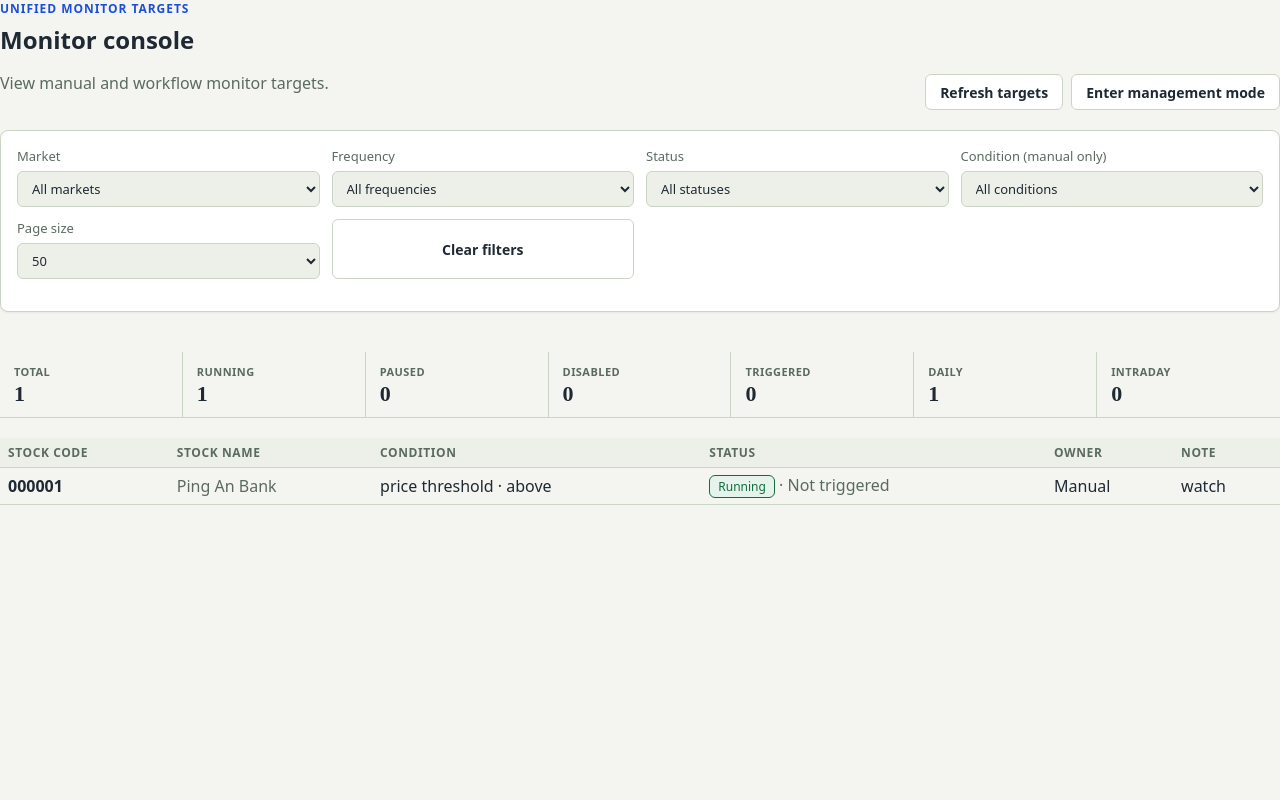
MonitorPage › keeps create operation available in management mode
This screenshot has width=1280, height=800.
Check: the text "000001" is shown, box top-left (8, 475), bottom-right (63, 497)
Click the button "Enter management mode".
click(1176, 92)  # box top-left (1071, 74), bottom-right (1279, 110)
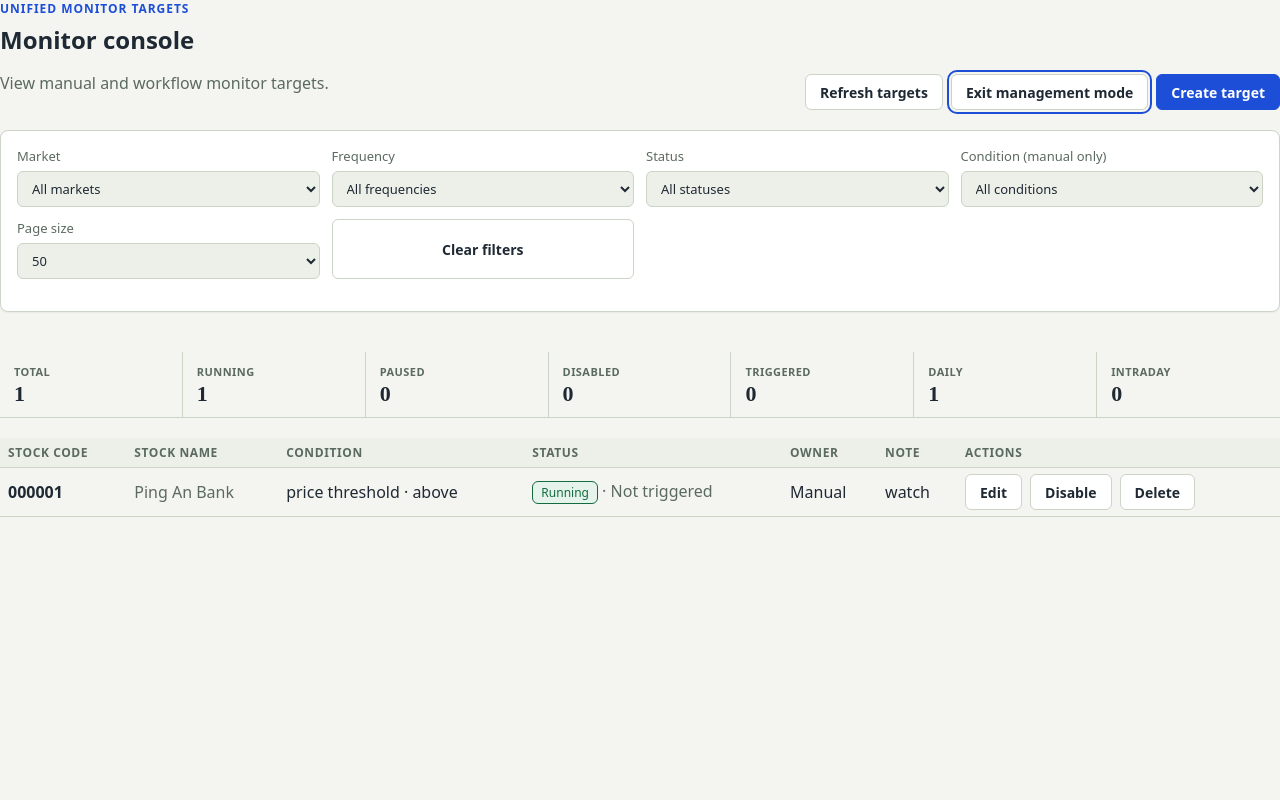
Click the button "Create target".
click(1218, 92)  # box top-left (1156, 74), bottom-right (1279, 110)
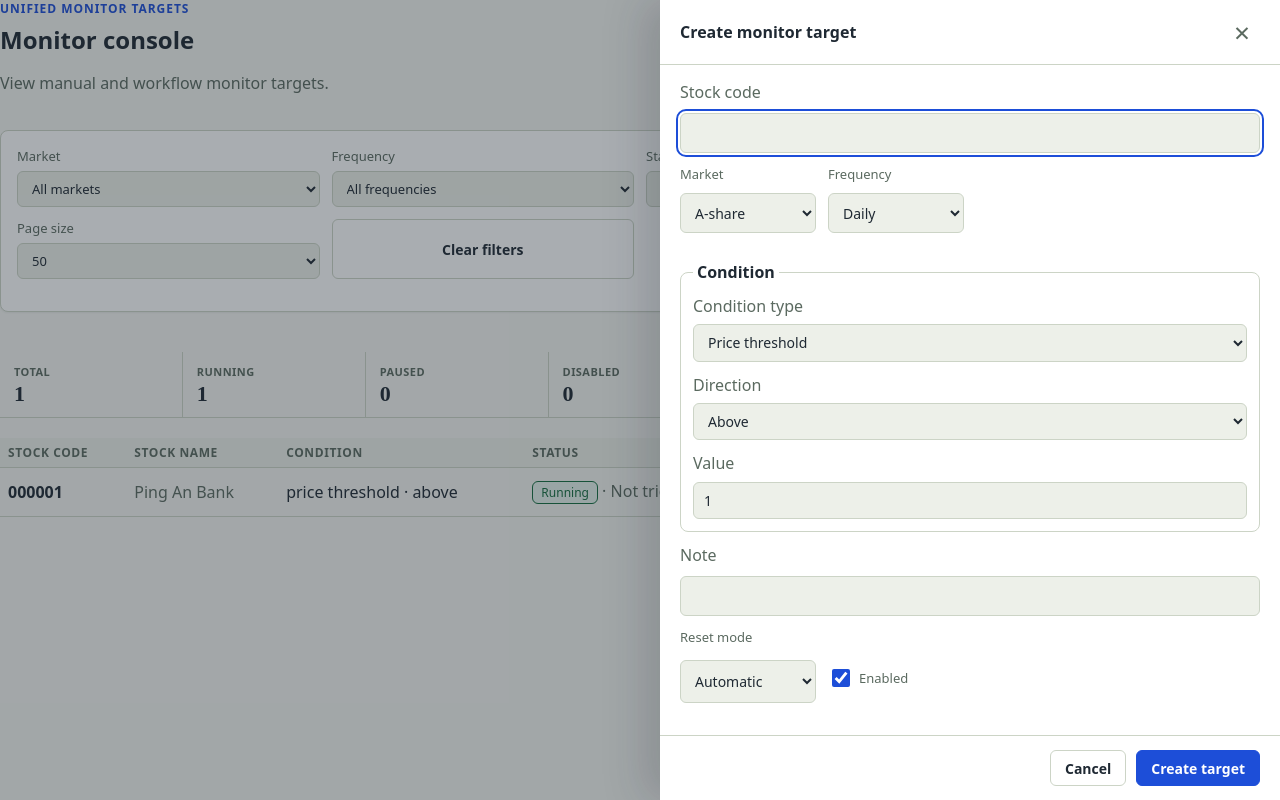
Check: the dialog "Create monitor target" is shown, box top-left (660, 0), bottom-right (1279, 799)
